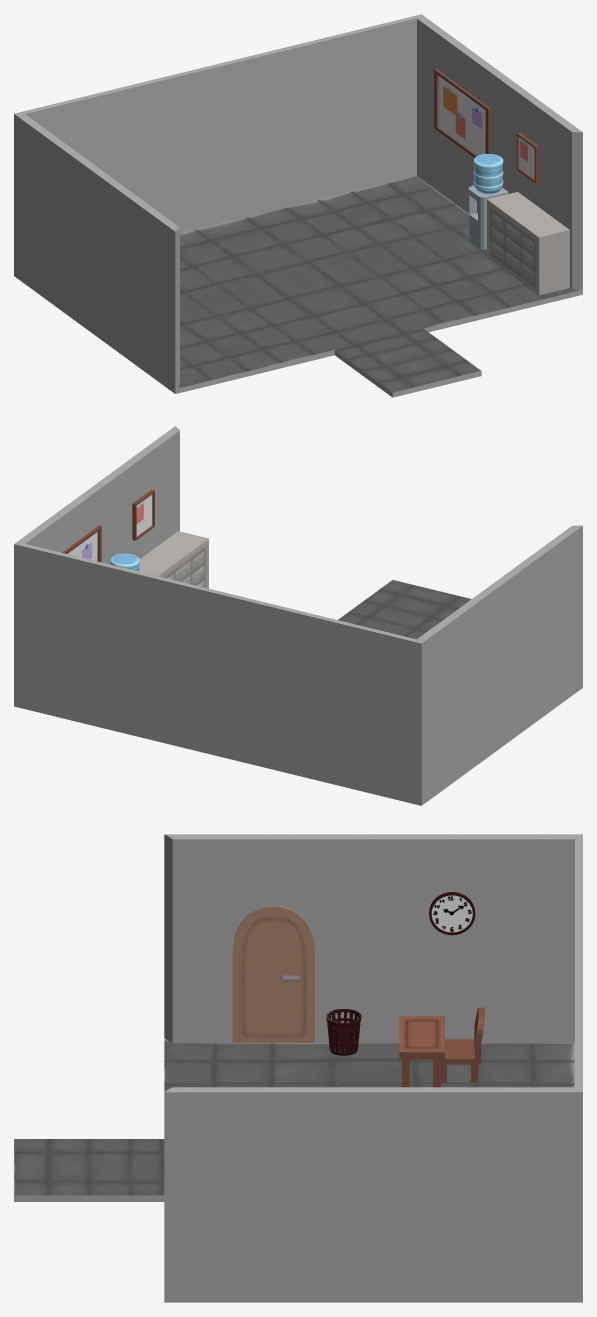
Rendered from PoliceInteria.fbx.
The picture shows the model from 3 angles, top to bottom: view 1: azimuth 30°, elevation 25°; view 2: azimuth 150°, elevation 25°; view 3: azimuth 270°, elevation 25°; orthographic projection. The views are drawn at different scales.
Visible parts, largest first — view 1: wall, shelve, photo, water, photo2; view 2: wall, shelve, photo2, photo; view 3: wall, door, desk, clock, chair, bin.
Boxes of the visible parts, x1,y1,x2,y2 form: wall: (14, 14, 582, 397); shelve: (487, 192, 569, 295); photo: (434, 69, 490, 157); water: (468, 154, 508, 249); photo2: (516, 132, 539, 183); wall: (14, 426, 582, 805); shelve: (139, 531, 208, 588); photo2: (132, 490, 154, 540); photo: (62, 525, 101, 562); wall: (14, 834, 582, 1302); door: (232, 906, 314, 1042); desk: (399, 1016, 444, 1087); clock: (429, 892, 475, 935); chair: (441, 1007, 484, 1082); bin: (326, 1009, 361, 1055).
Size of the model in its own units: 2642 by 1005 by 2463.
